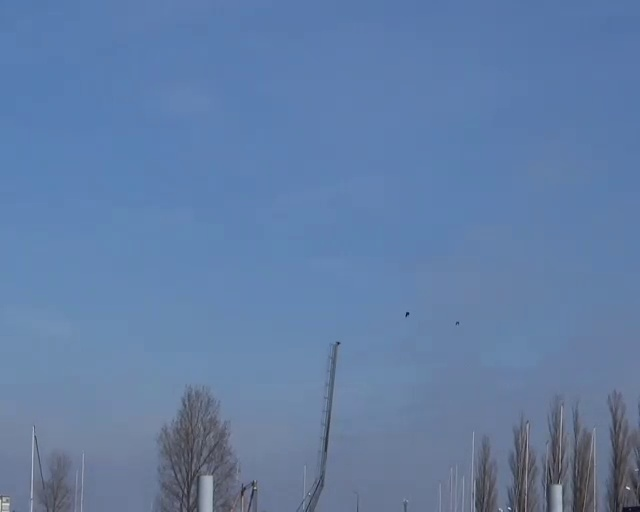BIRD: (454, 319, 461, 326)
